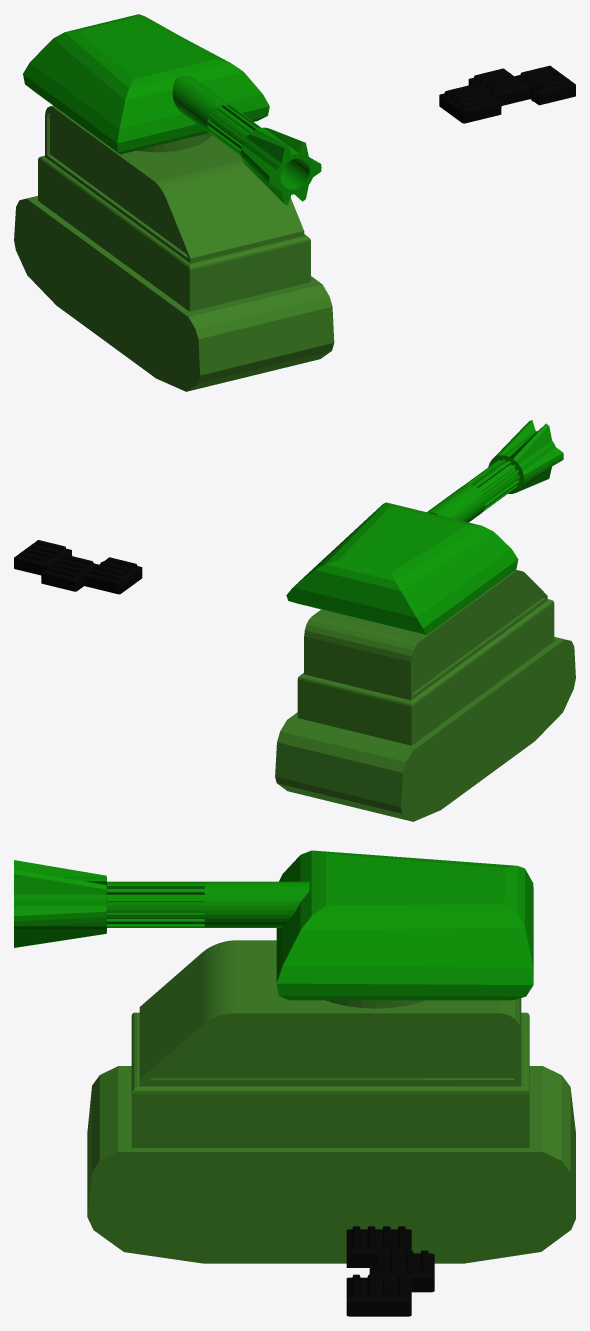
File: new_tank_2.fbx
3 renders of one model, top to bottom at view 1: azimuth 30°, elevation 25°; view 2: azimuth 150°, elevation 25°; view 3: azimuth 270°, elevation 25°, orthographic. The views are drawn at different scales.
Visible parts, largest first — view 1: tank, turret, Cube; view 2: tank, turret, Cube; view 3: tank, turret, Cube.
Boxes of the visible parts, x1,y1,x2,y2 form: tank: [14, 105, 334, 391]; turret: [23, 14, 321, 205]; Cube: [439, 65, 575, 123]; tank: [275, 569, 575, 821]; turret: [286, 420, 563, 634]; Cube: [14, 540, 142, 594]; tank: [87, 940, 575, 1263]; turret: [14, 850, 533, 1000]; Cube: [346, 1226, 434, 1316].
Size of the model in its own units: 250 by 133 by 191.
